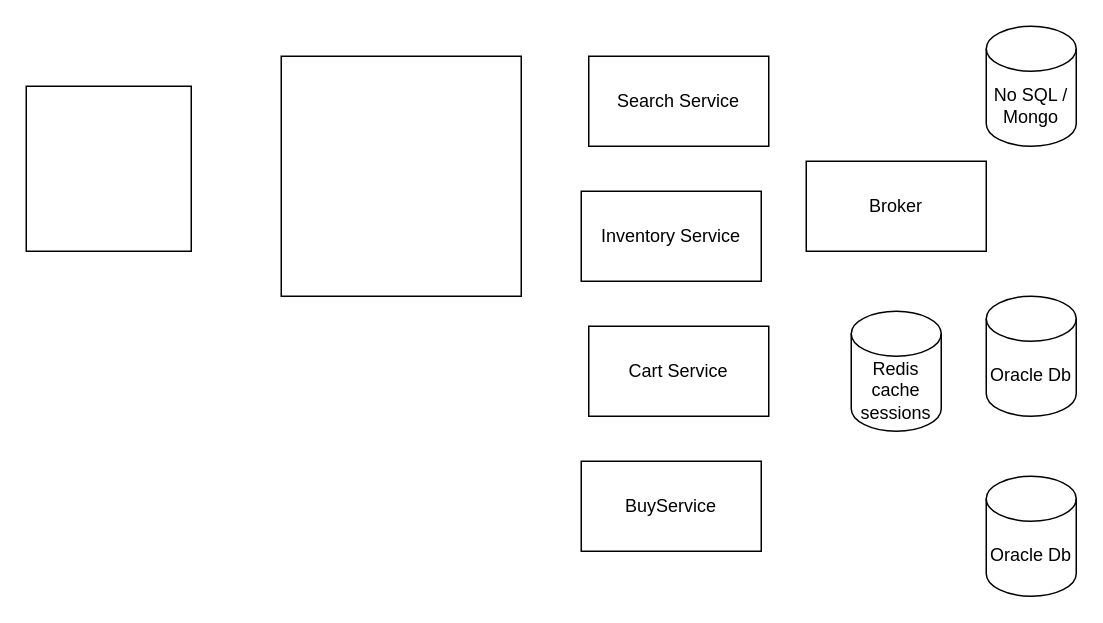
This 1103x623 diagram has some shape labels left out. Here are the shapes that lost their labels. From the top down, the box of each, then its label:
(25, 85, 191, 251): UI App Web
(280, 55, 521, 296): API Gateway
